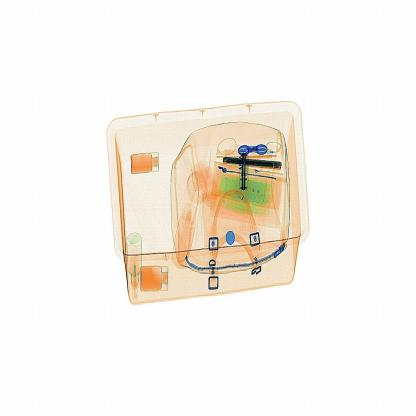scissors: (236, 144, 257, 198)
